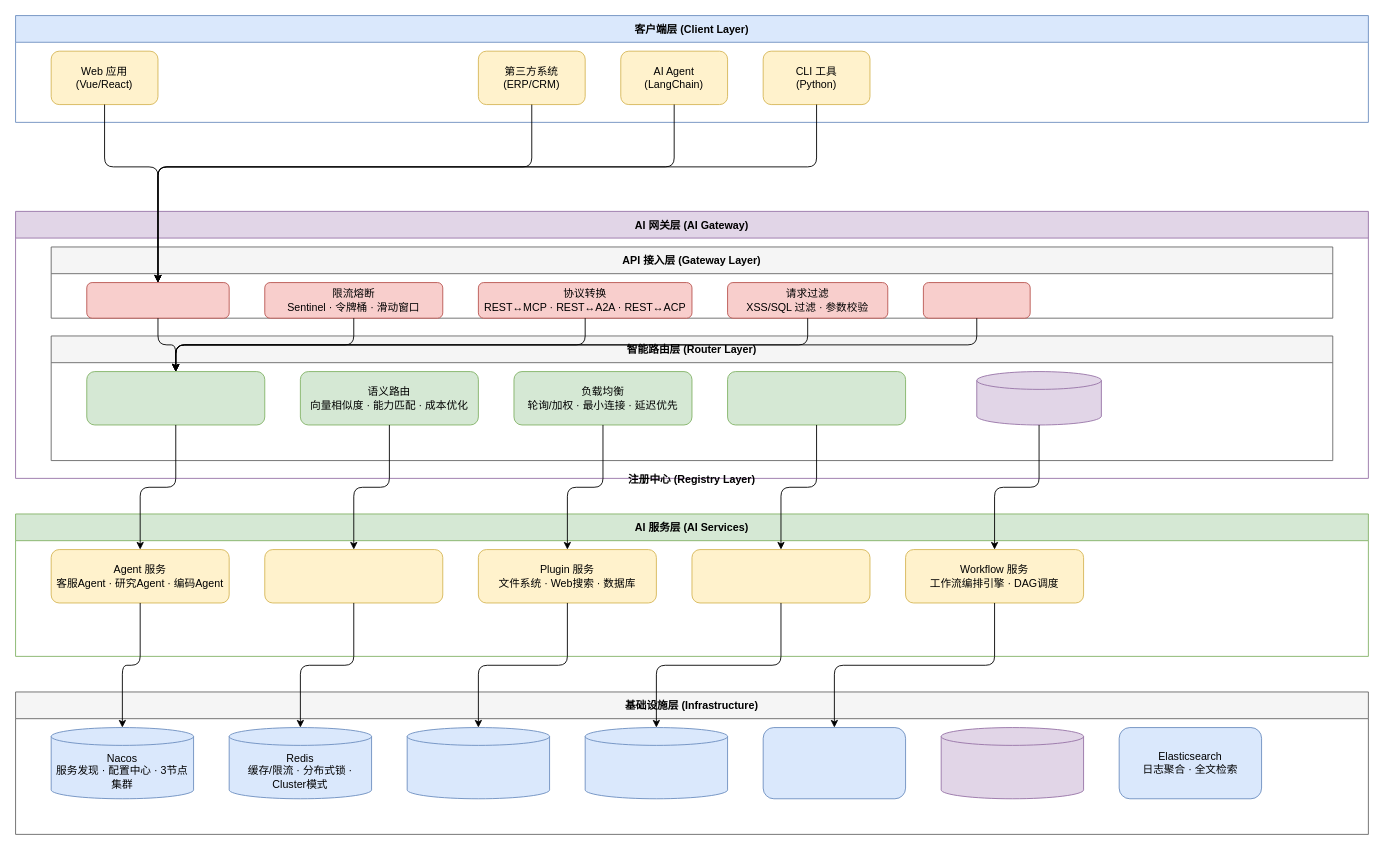
Image size: 1384x850. Some labels were removed from this diagram. The shapes that lost their labels are listed below. From the top down, each one's centre as x and y in pixels, then its label:
the point at 157,300: 认证鉴权 OAuth2 · JWT · API Key
the point at 976,300: 响应缓存 Redis
the point at 175,398: 静态路由 路径匹配 · Header匹配 · Query匹配
the point at 816,398: 故障转移 熔断降级 · 重试策略 · 备用服务
the point at 1038,398: Milvus 向量库 服务描述向量检索
the point at 353,576: Skill 服务 文本摘要 · 代码生成 · 翻译技能
the point at 780,576: Model 服务 GPT-4 · Claude · 本地模型
the point at 478,763: MySQL 数据存储 · 审计日志 · 主从复制
the point at 656,763: RocketMQ 消息队列 · 事件驱动 · 异步解耦
the point at 834,763: SkyWalking 链路追踪 · 性能分析 · 拓扑发现
the point at 1012,763: Milvus 向量数据库 · 语义检索
